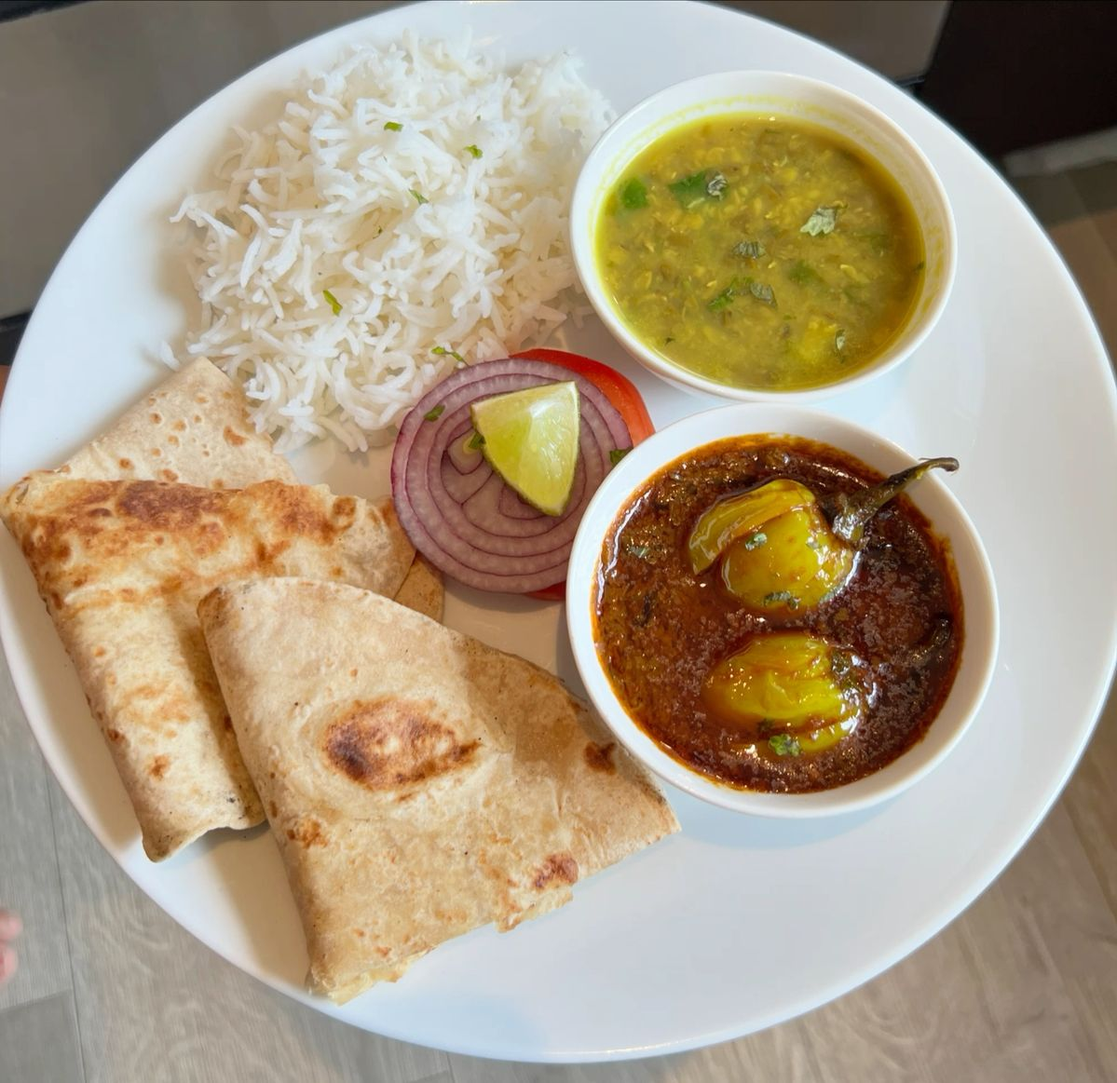bhat: (192, 73, 606, 428)
dal: (615, 121, 922, 388)
sabji: (596, 453, 958, 784)
